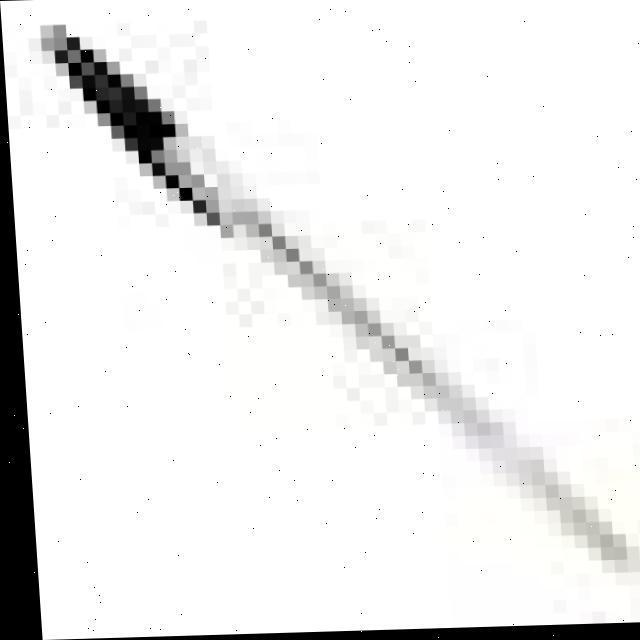Pen - Non Recyclable: (27, 12, 633, 600)
